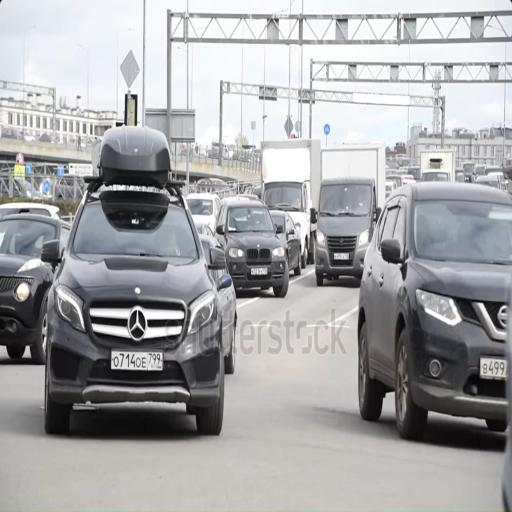License plates: (111, 351, 163, 371), (480, 357, 507, 379), (251, 268, 267, 275), (334, 254, 349, 260)
